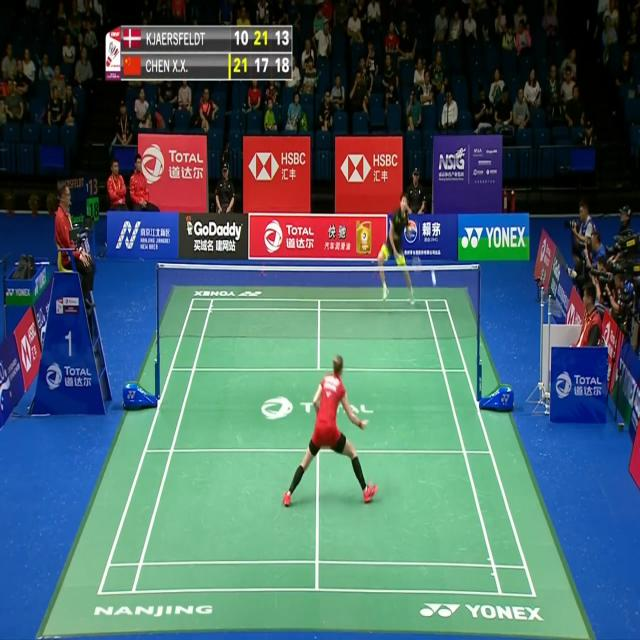Player1: (281, 343, 383, 507)
Player2: (373, 186, 423, 312)
